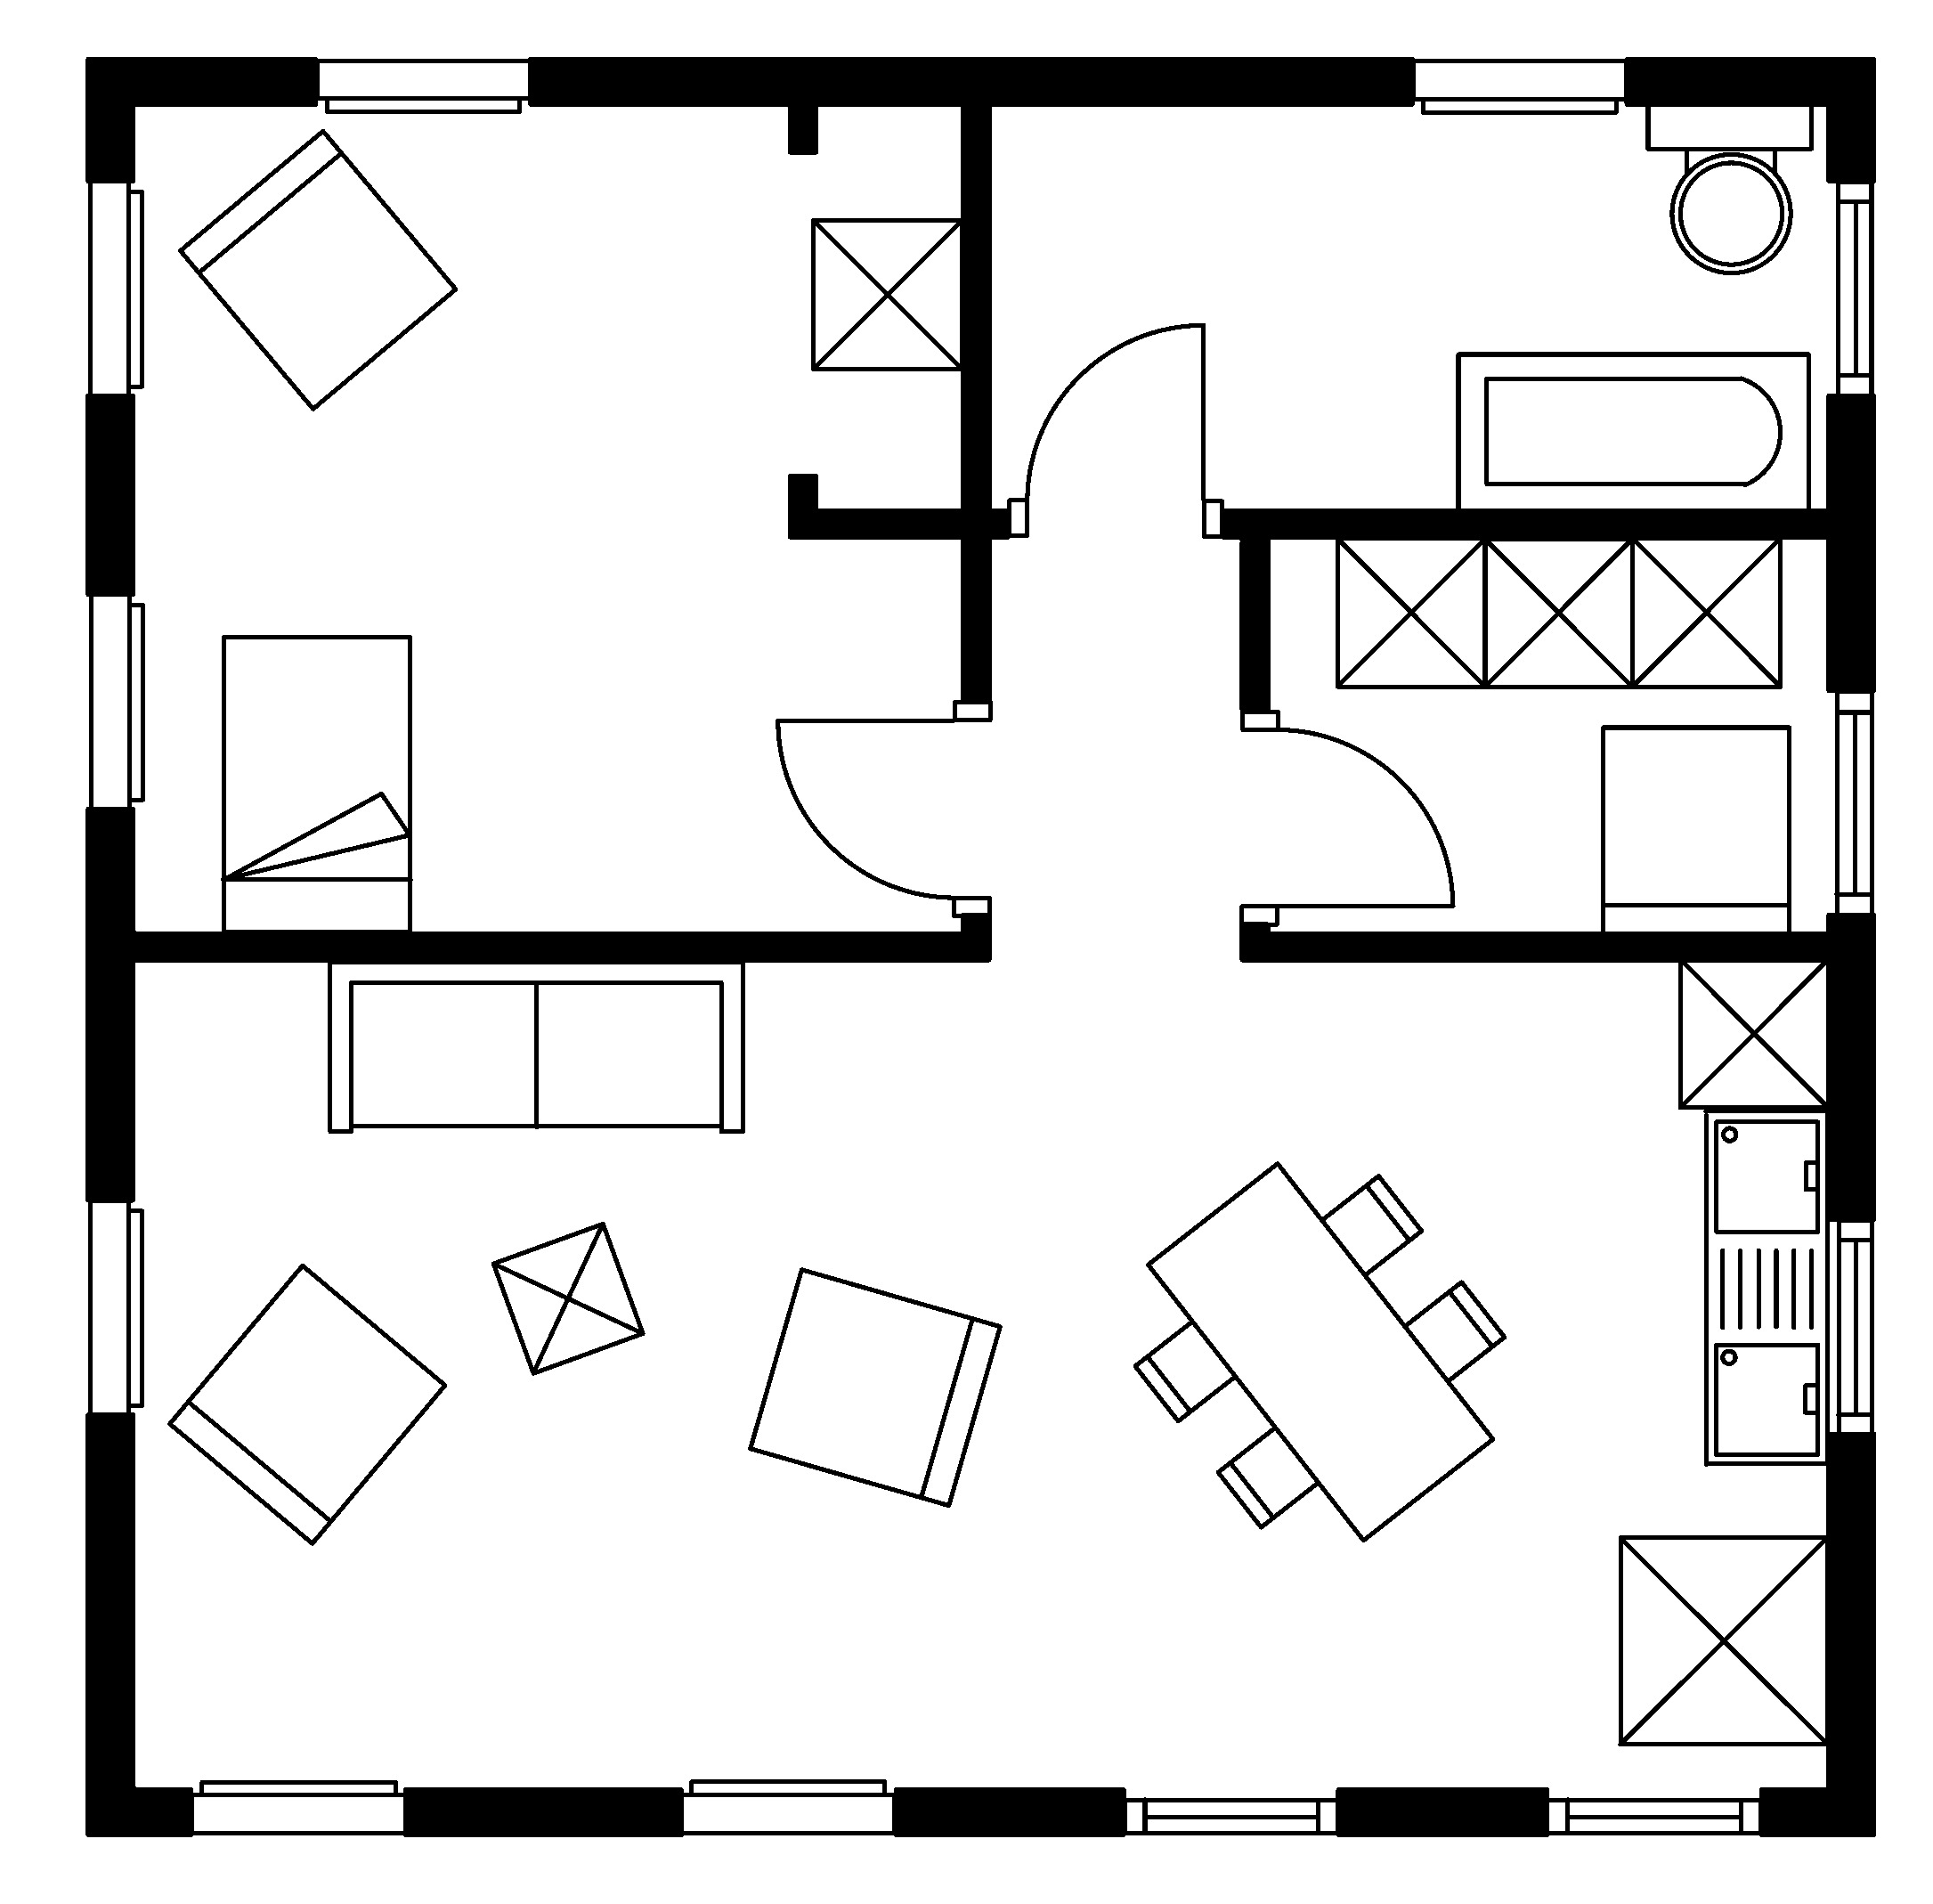basin: (1699, 1109, 1827, 1472)
bed: (216, 628, 418, 926)
door: (1236, 708, 1459, 931), (770, 699, 994, 921), (1011, 316, 1225, 541)
rectangleTable: (1133, 1159, 1509, 1545)
window: (1543, 1792, 1759, 1838), (1834, 689, 1875, 922), (1834, 178, 1877, 396), (1121, 1796, 1335, 1838), (1834, 1221, 1877, 1416)
